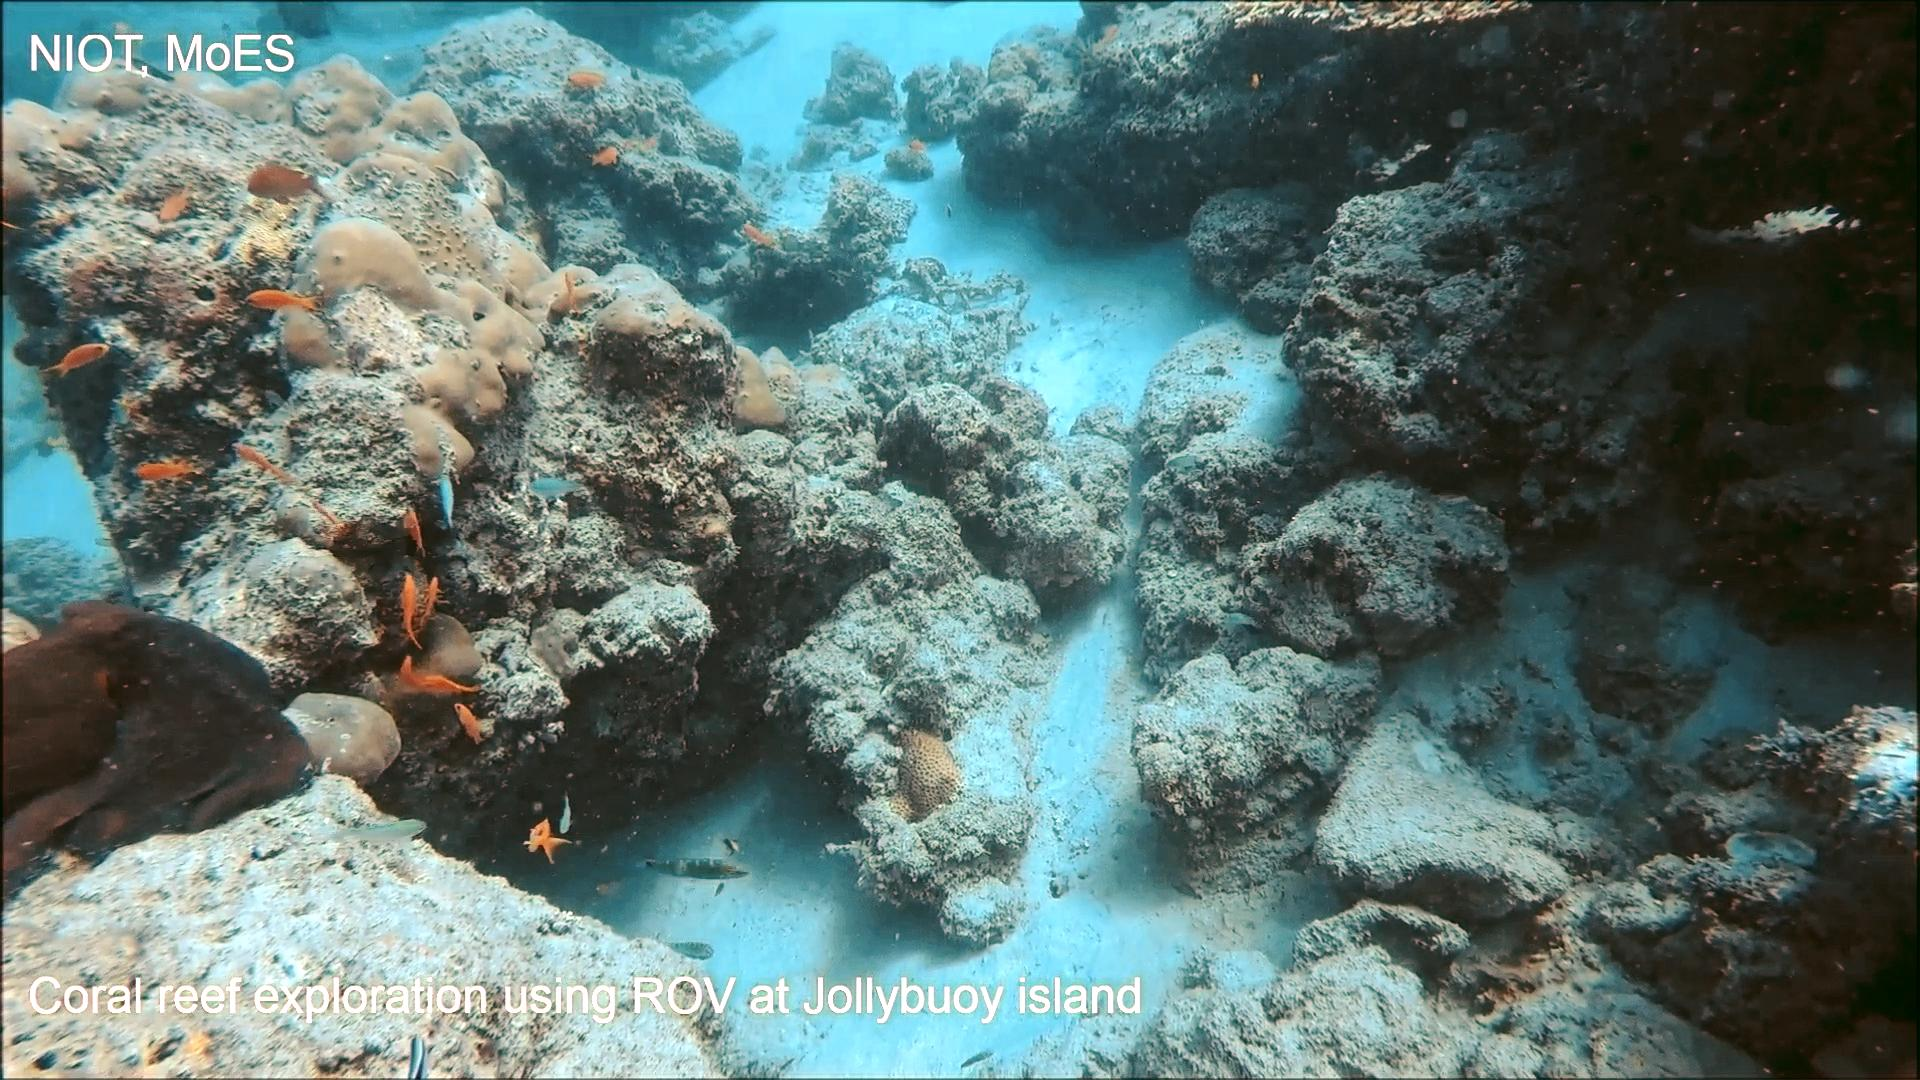Porites-Porites pukoensis: (255, 45, 609, 491)
